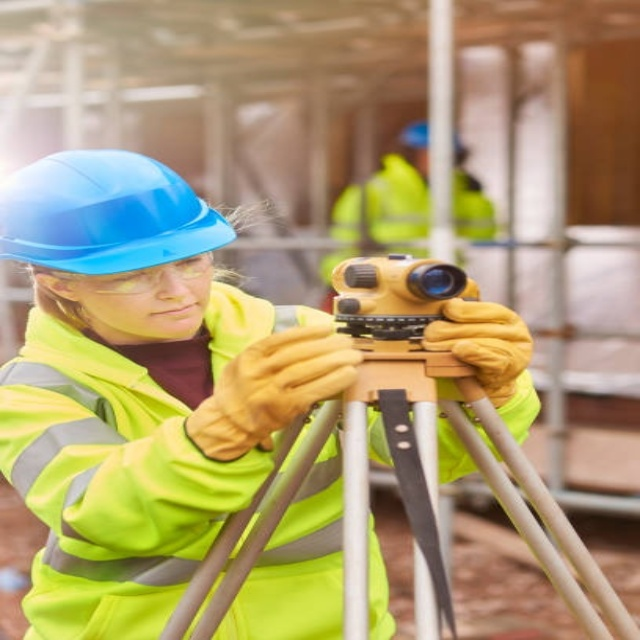Gafas: (49, 249, 220, 295)
Guantes: (187, 322, 361, 458), (415, 297, 535, 409)
Sin_mascara: (138, 297, 202, 333)
